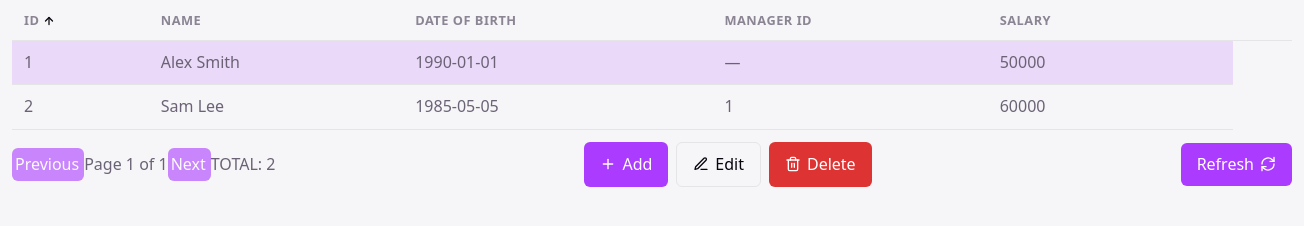
Test: PersonList: row edit mode › only changes the edited row
This screenshot has width=1304, height=226.
Check: the text "Alex Smith" is shown, box top-left (149, 41), bottom-right (403, 85)
Click the text "Sam Lee" at (276, 107), box top-left (149, 85), bottom-right (403, 129)
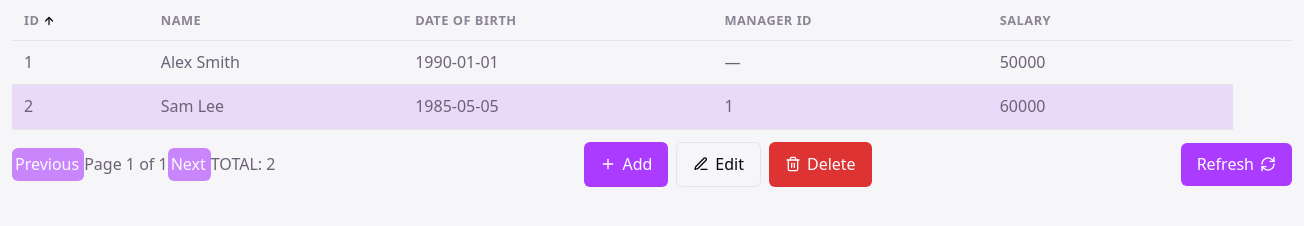
Click the button "Edit" at (719, 164), box top-left (676, 142), bottom-right (761, 187)
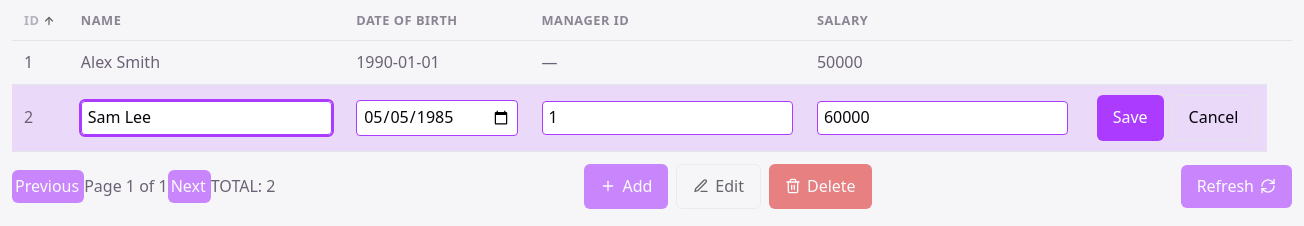
Replace the text in the field named "Name" with "Samuel Lee" at (206, 118), box top-left (81, 101), bottom-right (332, 135)
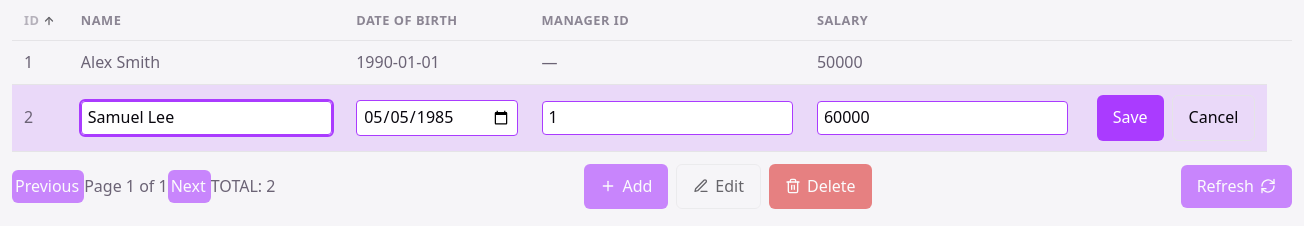
Click the button "Save" at (1130, 118), box top-left (1097, 95), bottom-right (1164, 141)
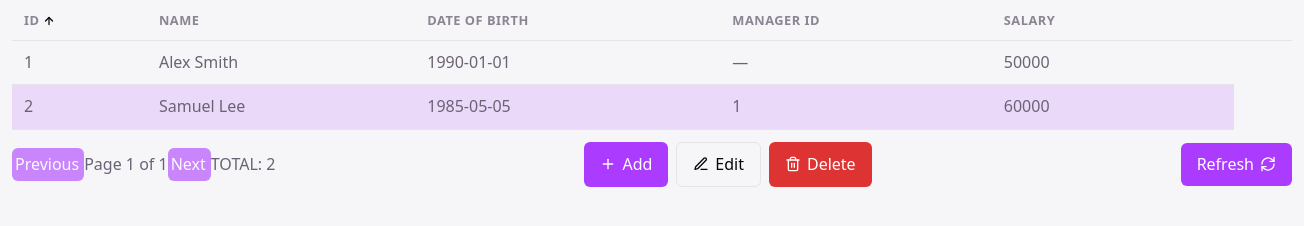
Check: the text "Alex Smith" is shown, box top-left (147, 41), bottom-right (415, 85)
Check: the text "Samuel Lee" is shown, box top-left (147, 85), bottom-right (415, 129)
